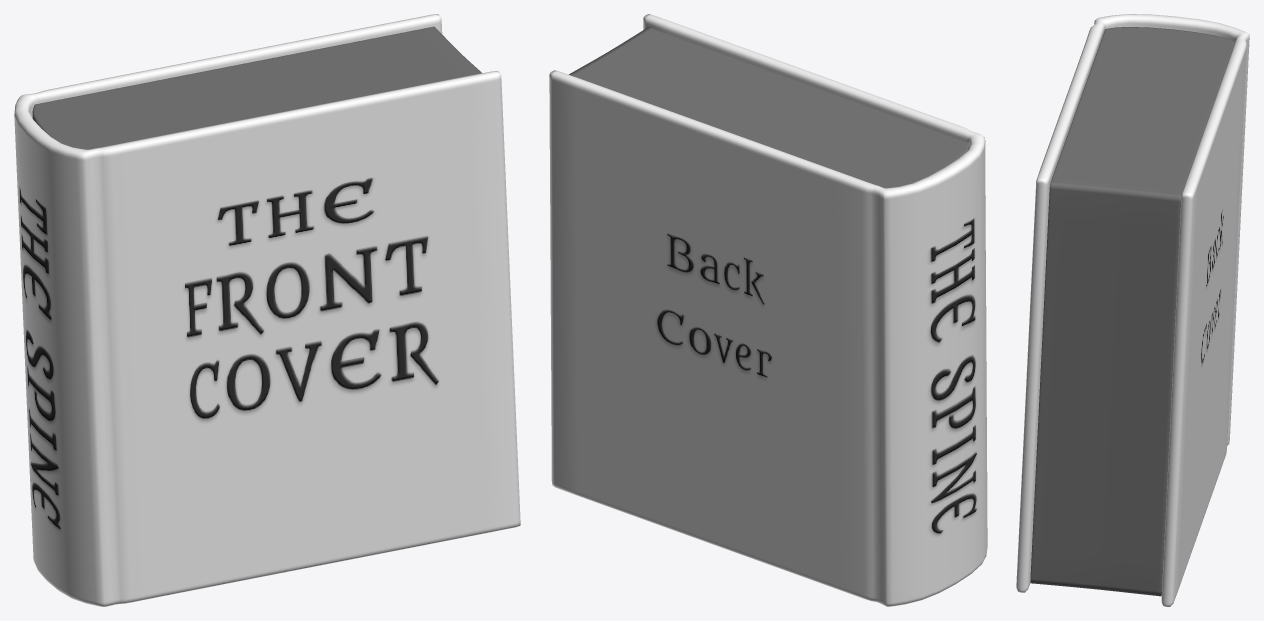
The model's file is blank-book.obj.
3 views of the same model, side by side, from view 1: azimuth 30°, elevation 25°; view 2: azimuth 150°, elevation 25°; view 3: azimuth 270°, elevation 25° (orthographic). The views are drawn at different scales.
Visible parts, largest first — view 1: Layer_0, Layer_0.001; view 2: Layer_0, Layer_0.001; view 3: Layer_0.001, Layer_0.
Boxes of the visible parts, x1,y1,x2,y2 form: Layer_0: [14, 14, 520, 606]; Layer_0.001: [32, 26, 482, 149]; Layer_0: [549, 14, 987, 606]; Layer_0.001: [569, 27, 969, 188]; Layer_0.001: [1030, 27, 1235, 596]; Layer_0: [1016, 14, 1249, 606].
Size of the model in its own units: 0.2254 by 0.2327 by 0.1158.
Materials: 2 (1 with a texture image).
